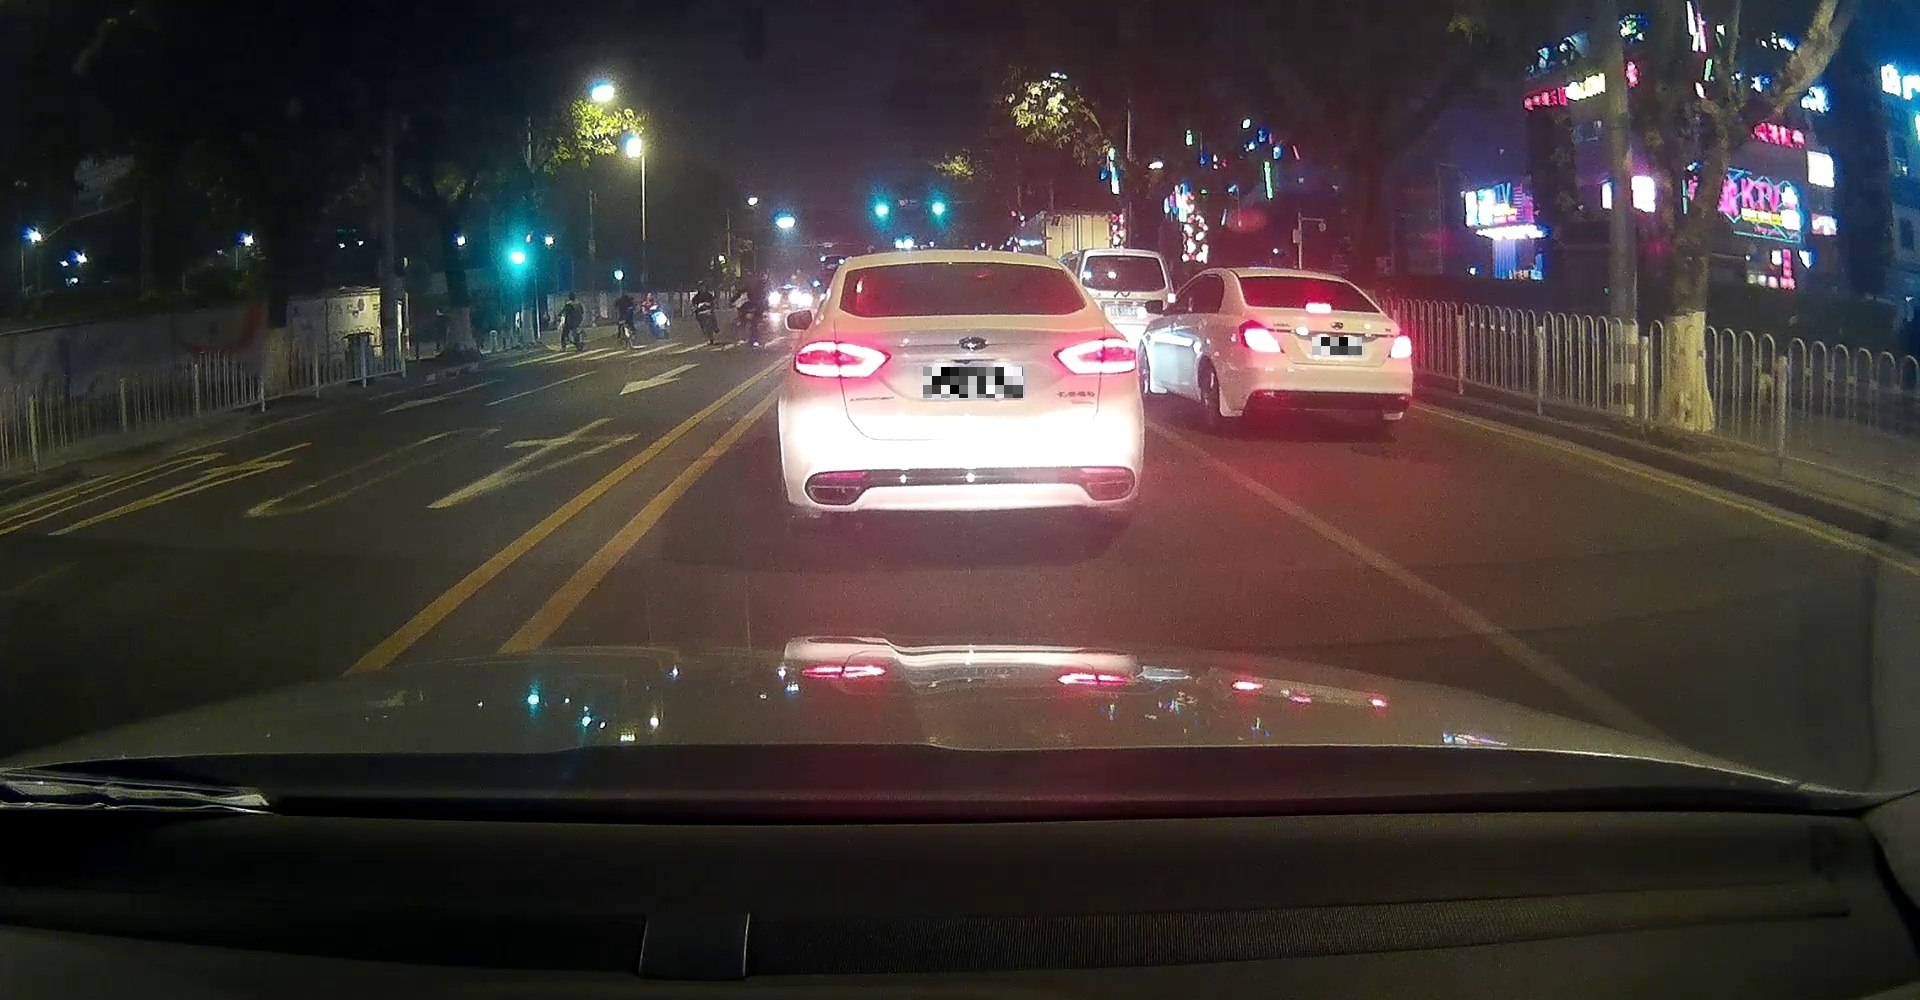L_light: (792, 339, 891, 378), (1239, 319, 1286, 353)
R_light: (1051, 338, 1137, 376), (1385, 329, 1412, 359)
T_light: (940, 261, 985, 269), (1305, 302, 1331, 313)
night-brake: (1237, 266, 1412, 431)
night-no: (777, 249, 1145, 529)
plate_1: (923, 367, 1023, 398)
plate_2: (1312, 338, 1363, 355)
